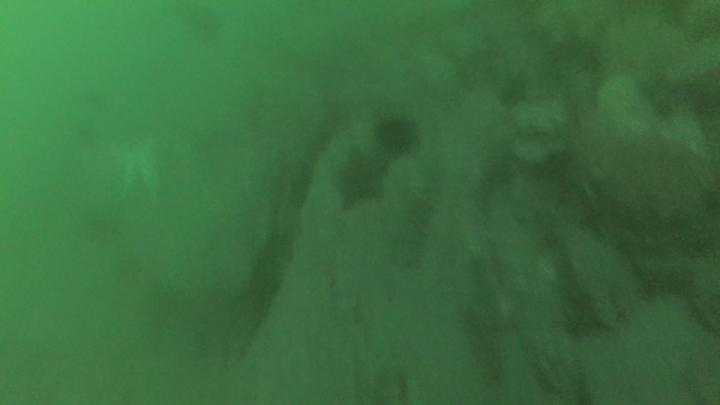echinus: (378, 120, 418, 153)
holothurian: (388, 162, 440, 263)
starfish: (333, 148, 387, 206)
